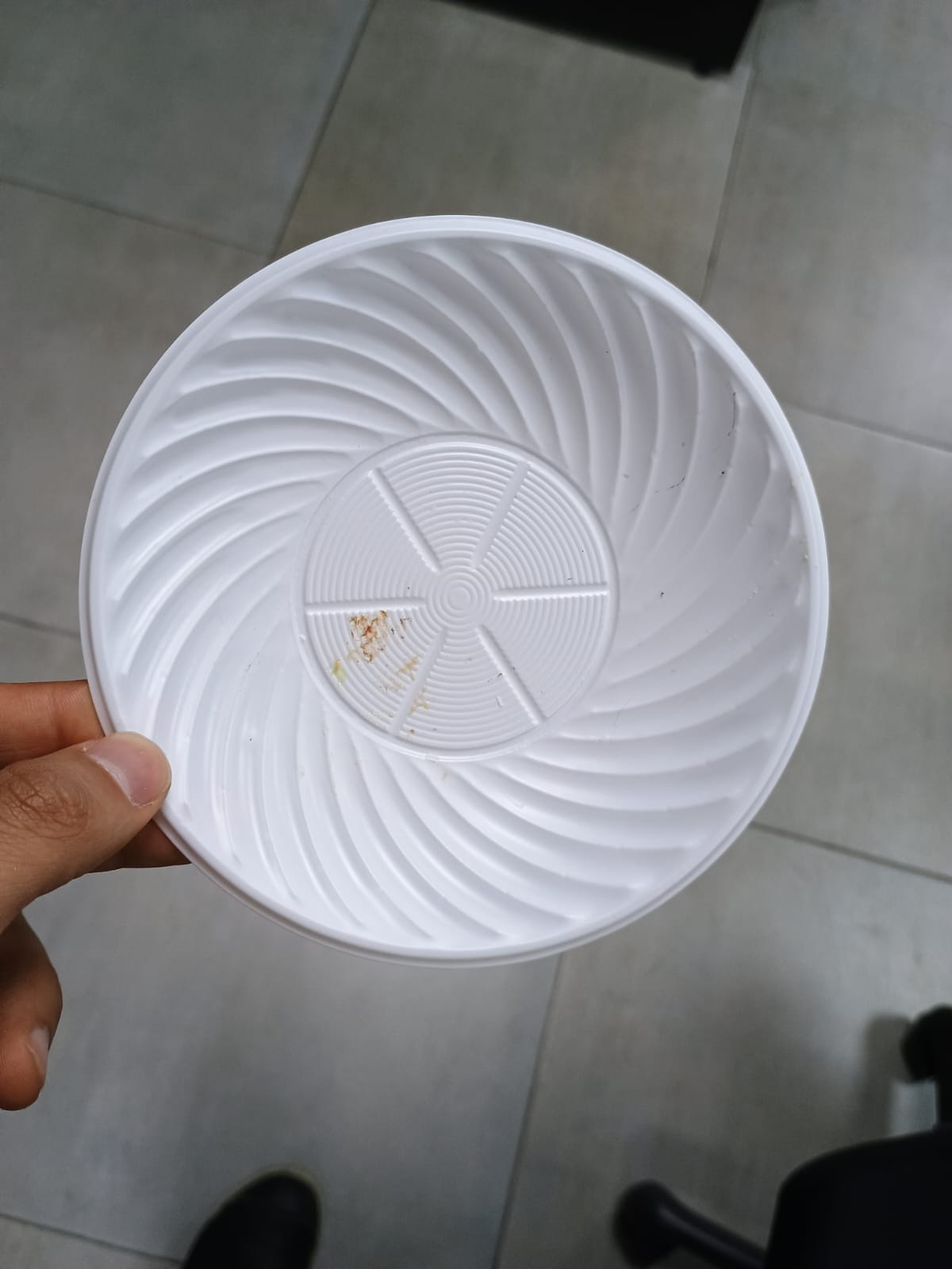Plastico: (78, 214, 832, 970)
